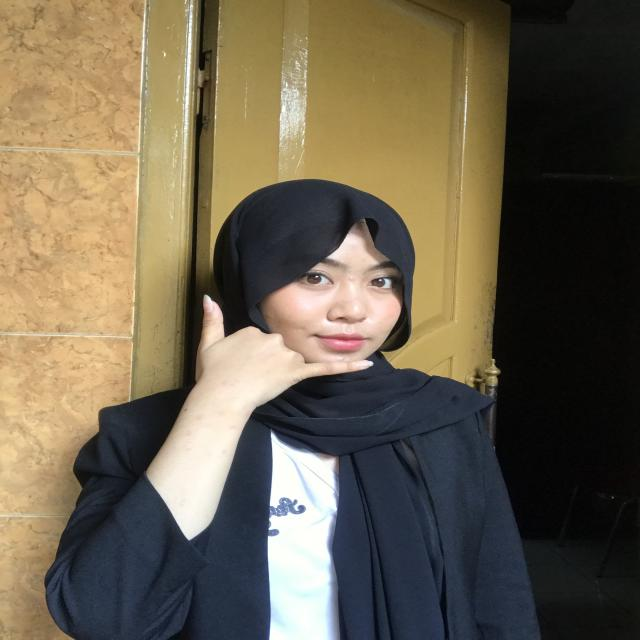telpon: (165, 282, 402, 410)
